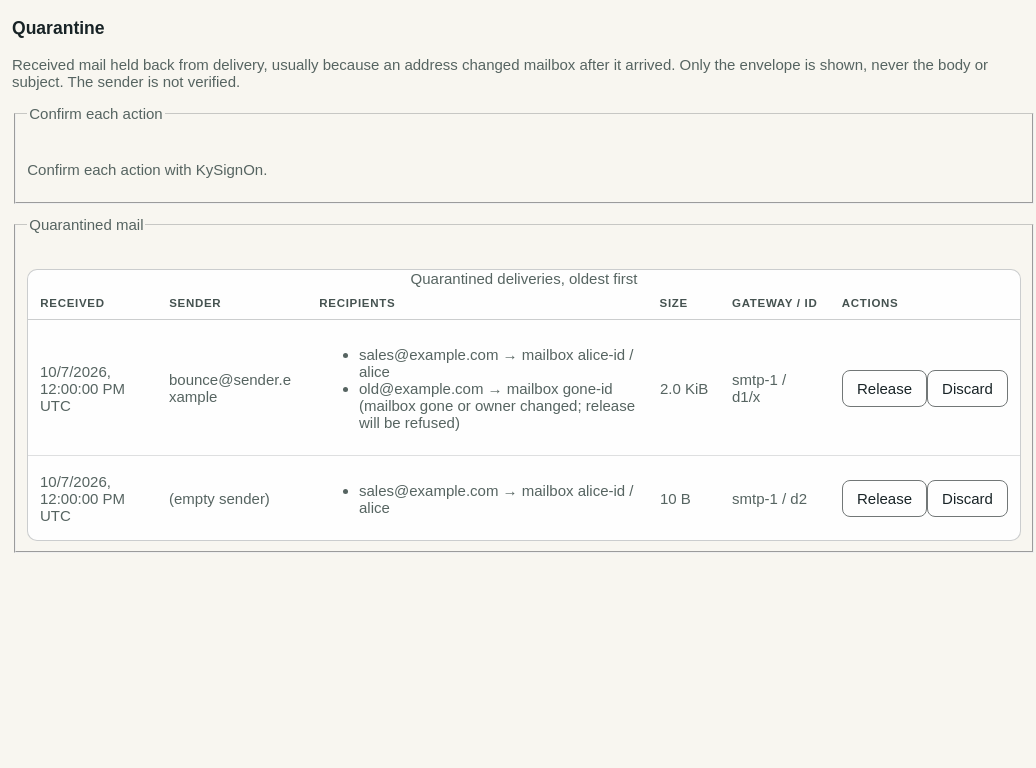
Scenario: replays an identical request through KySignOn step-up
Expected: the text "bounce@sender.example" is shown, x1=157 y1=320 x2=307 y2=456
Click the button with aria-label "Release smtp-1 / d1/x": [884, 388] box x1=842 y1=370 x2=927 y2=406
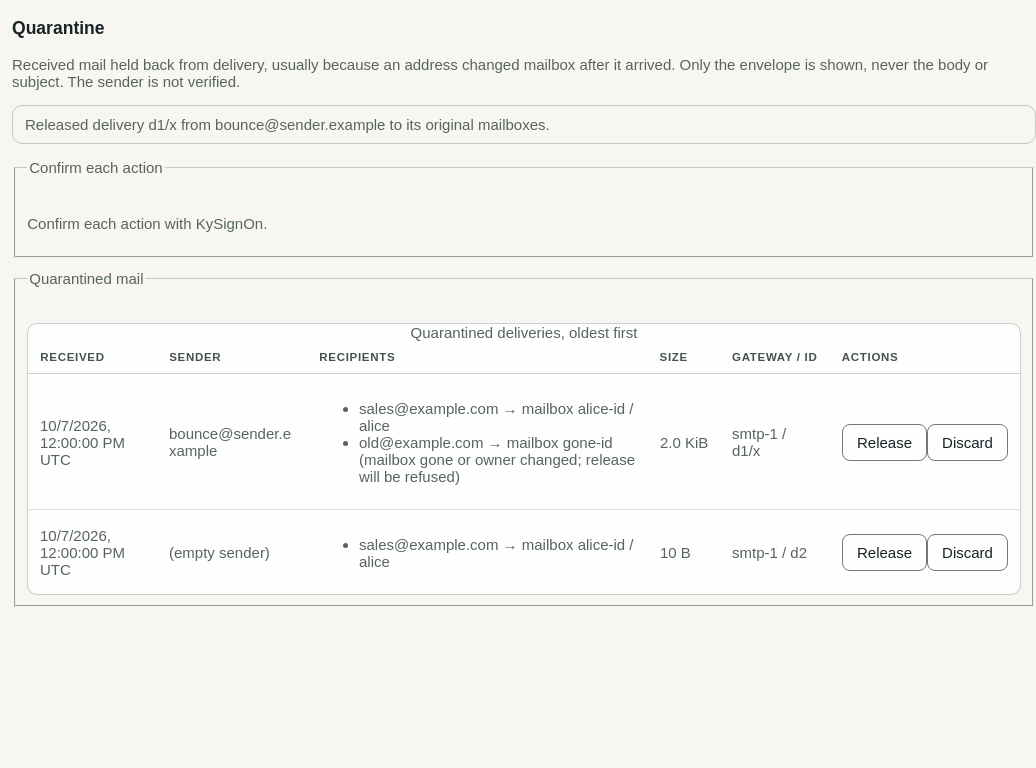
Expected: the text "Released delivery d1/x from bounce@sender.example to its original mailboxes." is shown, x1=12 y1=105 x2=1035 y2=144
